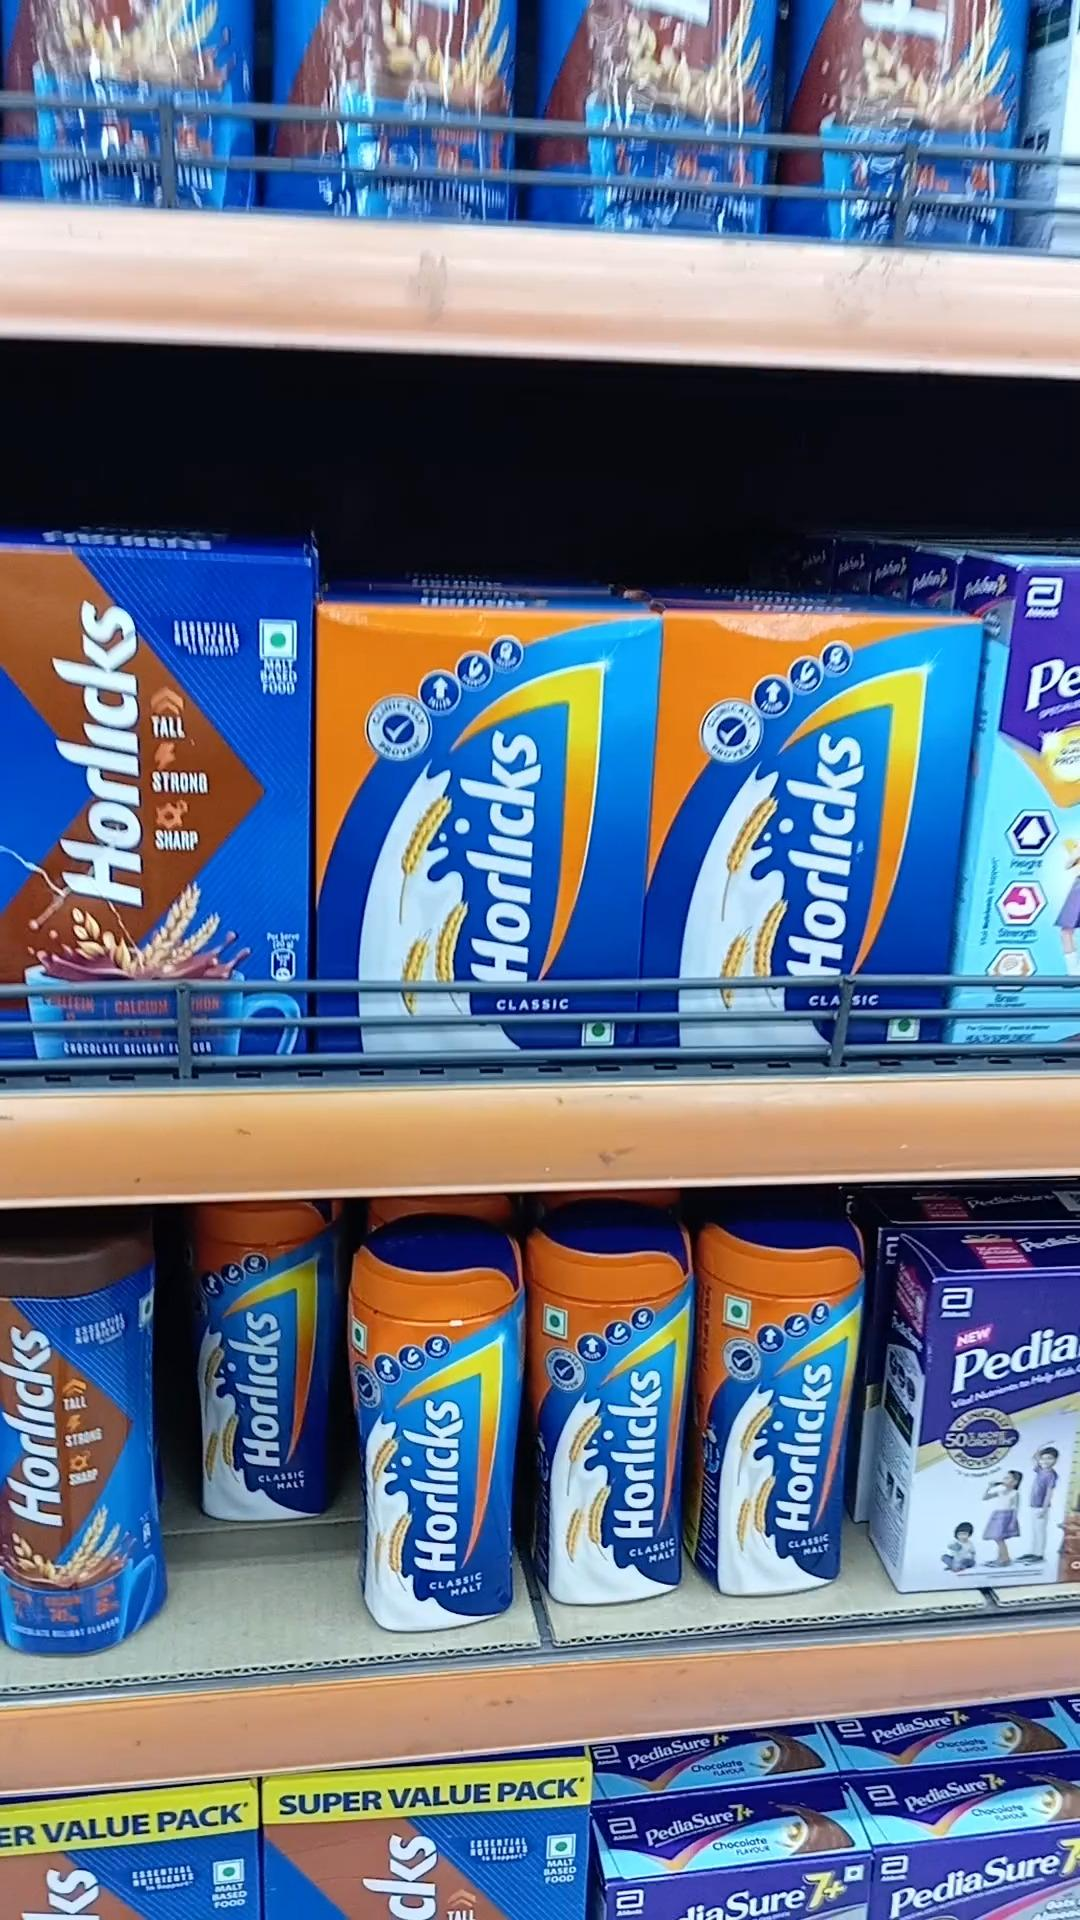HORLICK_CHOCOLATE_500_G_JAR: (0, 1221, 170, 1655)
HORLICK_CHOCOLATE_500_G_PACK: (4, 541, 303, 1062)
HORLICK_CLASSIC_MALT_500_G_JAR: (360, 1212, 518, 1634), (702, 1213, 853, 1598), (539, 1211, 682, 1607), (194, 1204, 332, 1519)
HORLICK_CLASSIC_MALT_500_G_PACK: (316, 609, 632, 1050), (658, 601, 953, 1050)
